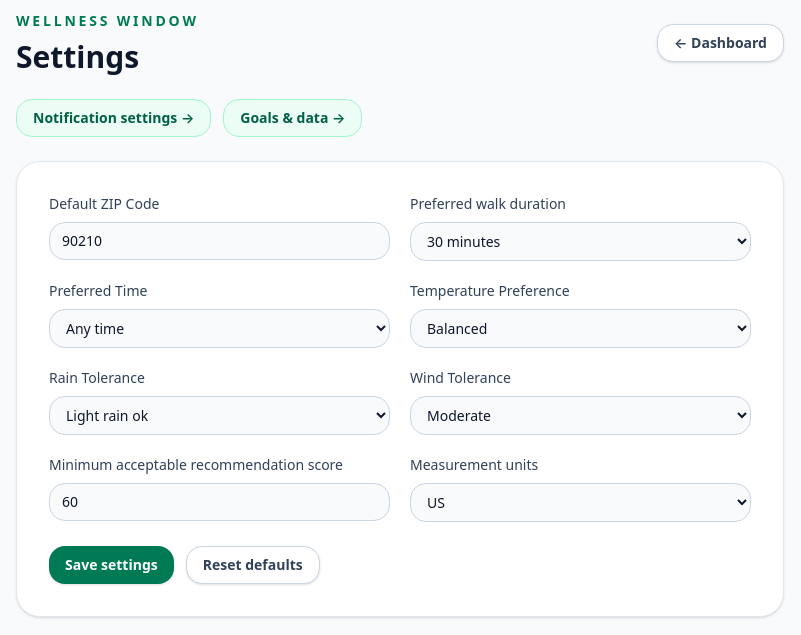
Test: SettingsPage › resets saved preferences to defaults
Click the button "Reset defaults" at (253, 565), box [186,546,320,584]
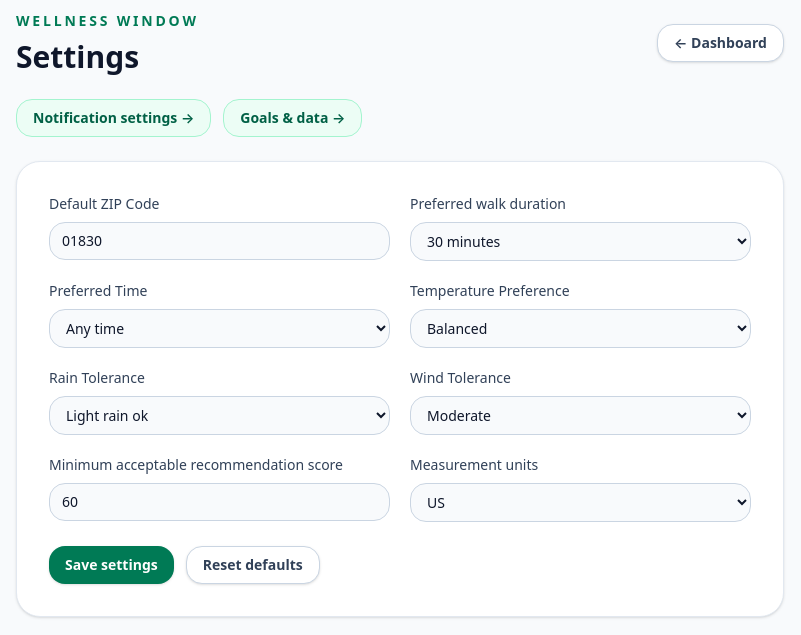
Result: the field labelled "Default ZIP Code" holds "01830" at [49,222,390,260]
